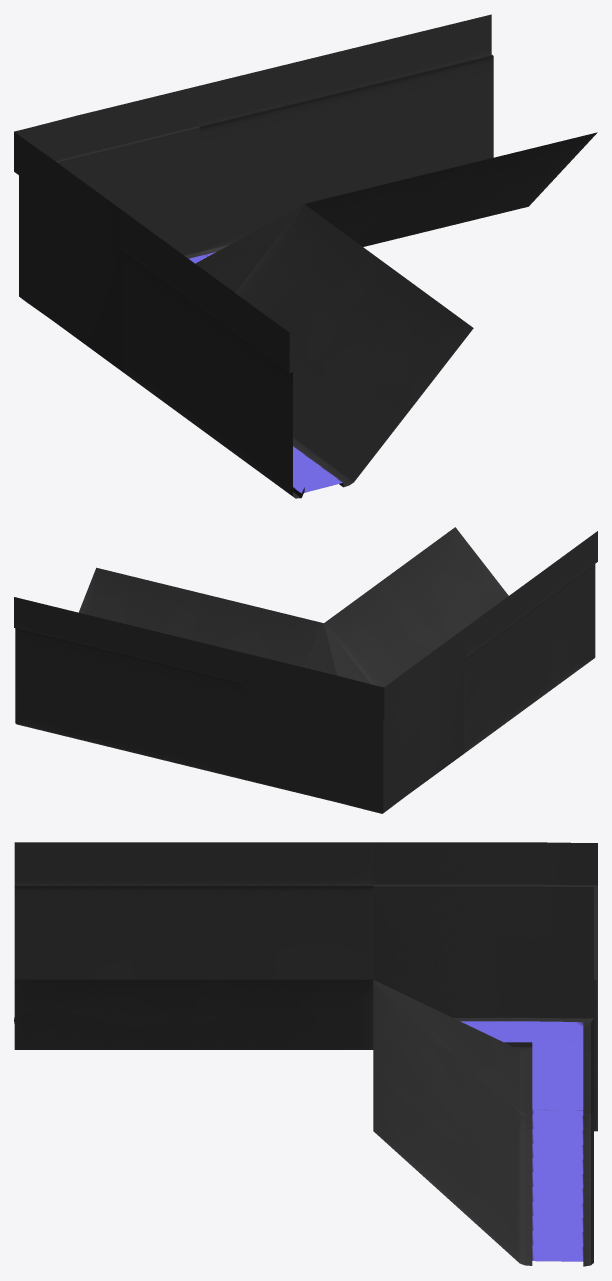
The model's file is var2.fbx.
The picture shows the model from 3 angles, top to bottom: view 1: azimuth 30°, elevation 25°; view 2: azimuth 150°, elevation 25°; view 3: azimuth 270°, elevation 25°; orthographic projection. The views are drawn at different scales.
Parts seen in each view (by area): view 1: Object034; view 2: Object034; view 3: Object034.
Boxes of the visible parts, box(x1,y1,x2,y2) form: Object034: box(14, 14, 597, 498); Object034: box(14, 527, 597, 813); Object034: box(14, 842, 597, 1266).
Size of the model in its own units: 127 by 43 by 127.
